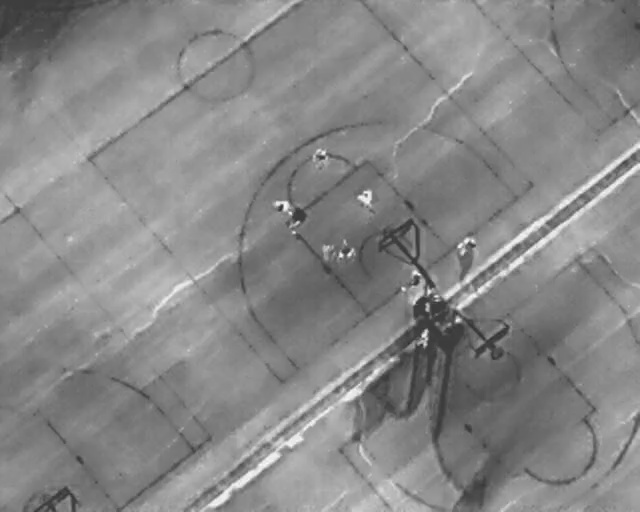Person: (458, 233, 476, 259), (288, 206, 304, 233), (271, 197, 291, 217), (320, 238, 336, 262), (339, 241, 355, 262), (357, 186, 372, 208), (313, 147, 328, 168), (408, 268, 421, 292)
